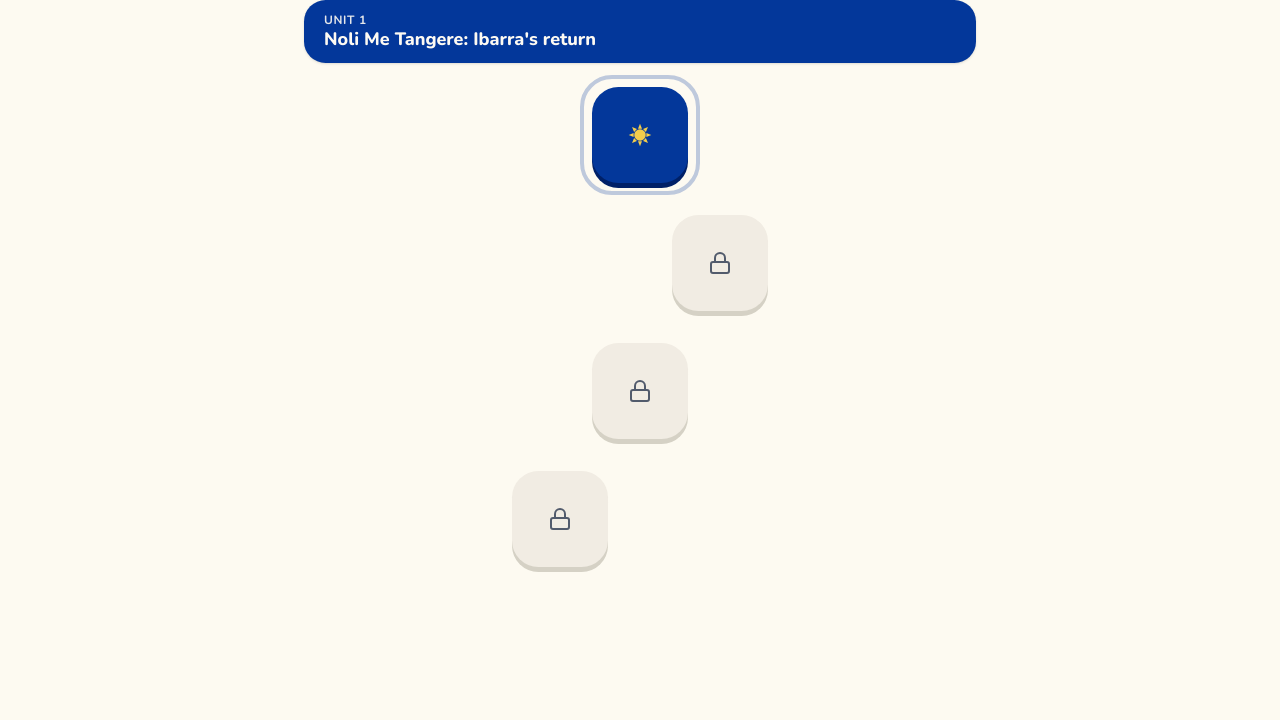
SkillTree › opens a popover with details and a Start link
Click the button named "Placeholder: the dinner" at coordinates (640, 134), box [592,86,688,182]
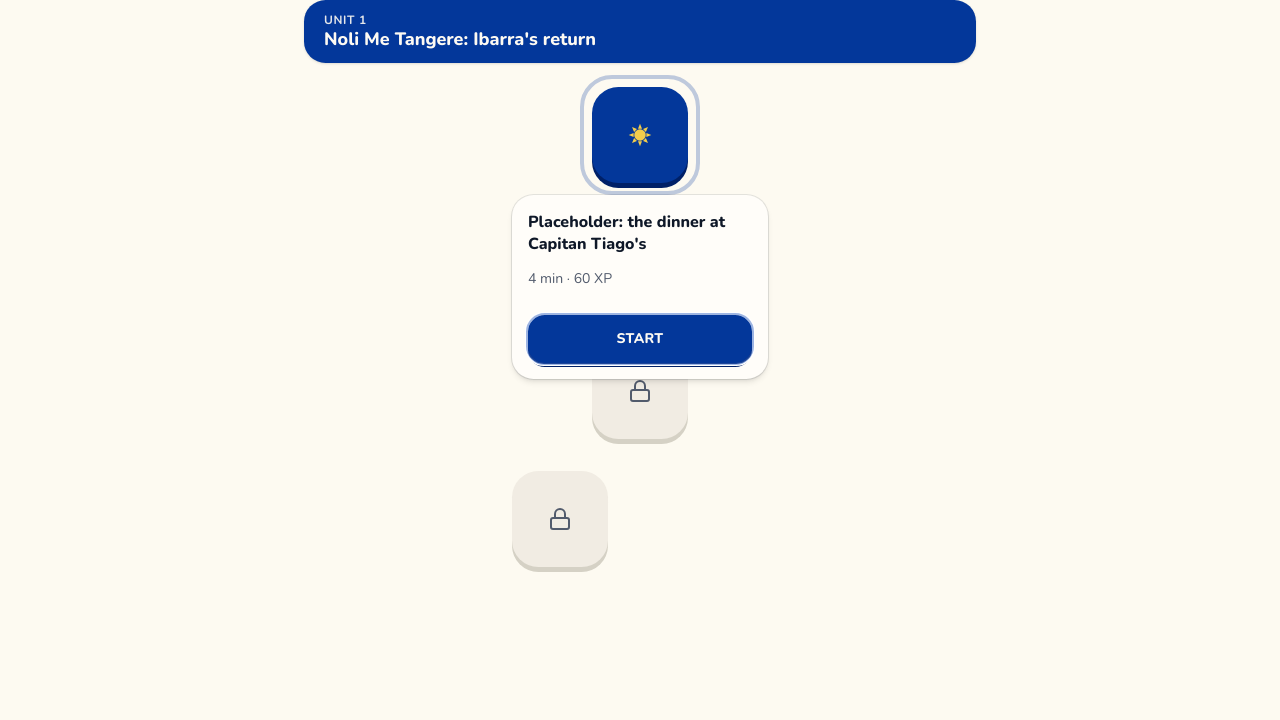
Check: the dialog shows "4 min", box [512,195,768,379]
Check: the dialog shows "60 XP", box [512,195,768,379]
